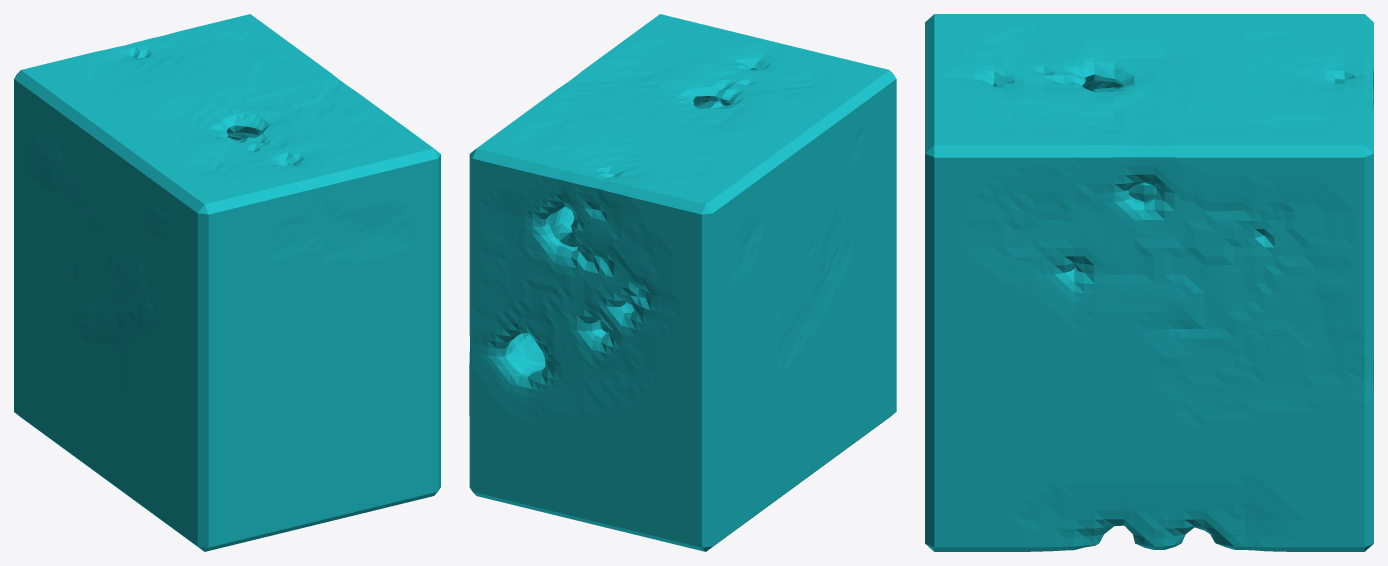
The picture shows the model from 3 angles, left to right: view 1: azimuth 30°, elevation 25°; view 2: azimuth 150°, elevation 25°; view 3: azimuth 270°, elevation 25°; orthographic projection. The views are drawn at different scales.
Visible parts, largest first — view 1: Liquid_Domain; view 2: Liquid_Domain; view 3: Liquid_Domain.
Boxes of the visible parts, <box> form: Liquid_Domain: <box>14,14,440,551</box>; Liquid_Domain: <box>469,14,896,551</box>; Liquid_Domain: <box>925,14,1373,551</box>.
Bounding box in the file's own units: 79.09 × 108 × 108.
